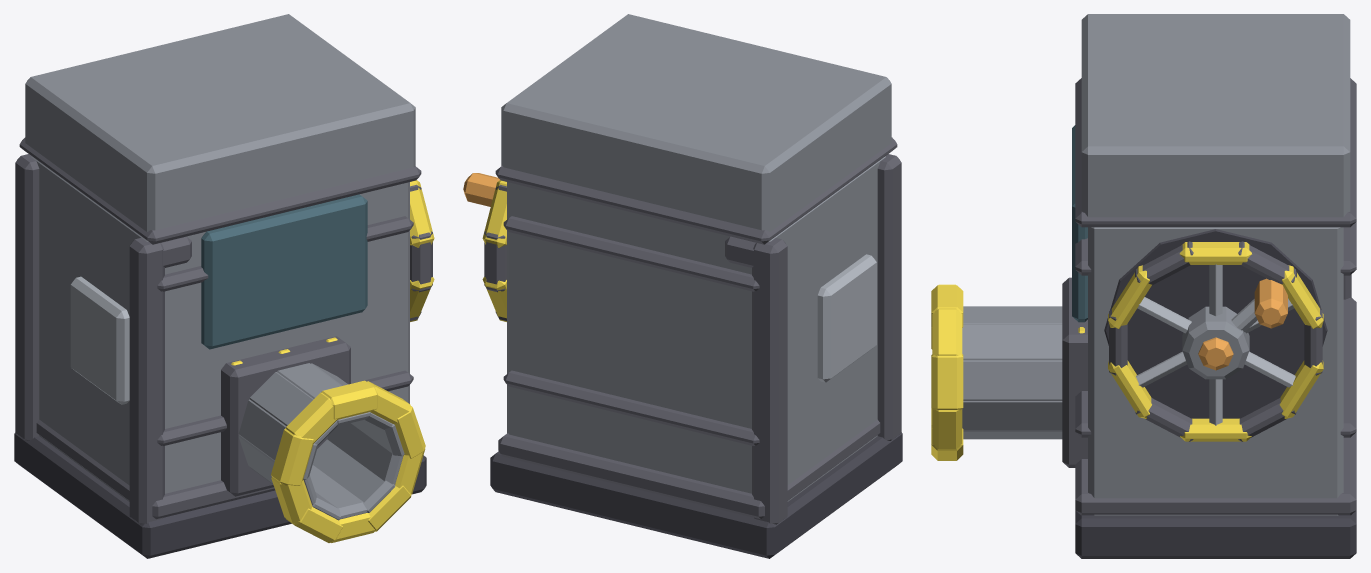
Rendered from crank.glb.
The picture shows the model from 3 angles, left to right: view 1: azimuth 30°, elevation 25°; view 2: azimuth 150°, elevation 25°; view 3: azimuth 270°, elevation 25°; orthographic projection. The views are drawn at different scales.
Visible parts, largest first — view 1: crank; view 2: crank; view 3: crank.
Boxes of the visible parts, x1,y1,x2,y2 form: crank: [14, 14, 434, 558]; crank: [463, 14, 902, 558]; crank: [931, 14, 1356, 558].
Size of the model in its own units: 1.31 by 1.41 by 1.33.
